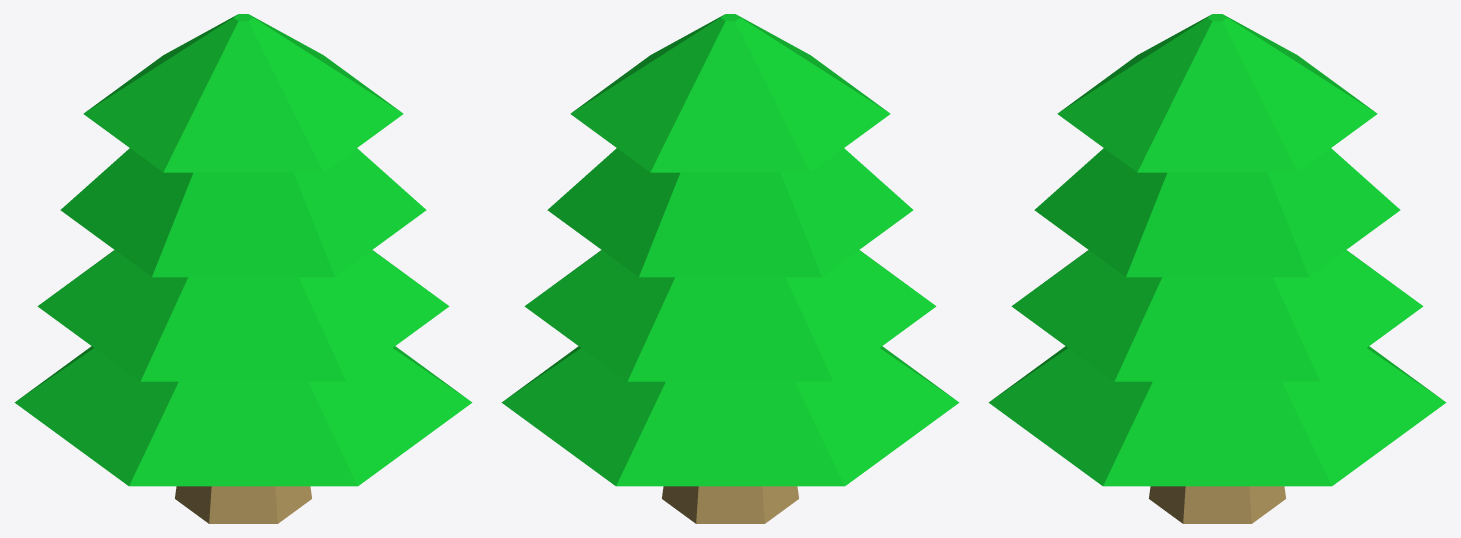
The model's file is Tree_1.fbx.
The picture shows the model from 3 angles, left to right: view 1: azimuth 30°, elevation 25°; view 2: azimuth 150°, elevation 25°; view 3: azimuth 270°, elevation 25°; orthographic projection.
Visible parts, largest first — view 1: Cylinder; view 2: Cylinder; view 3: Cylinder.
Boxes of the visible parts, box(x1,y1,x2,y2) form: Cylinder: box(14, 14, 472, 523); Cylinder: box(501, 14, 959, 523); Cylinder: box(988, 14, 1446, 523).
Bounding box in the file's own units: 139 × 185 × 160.
